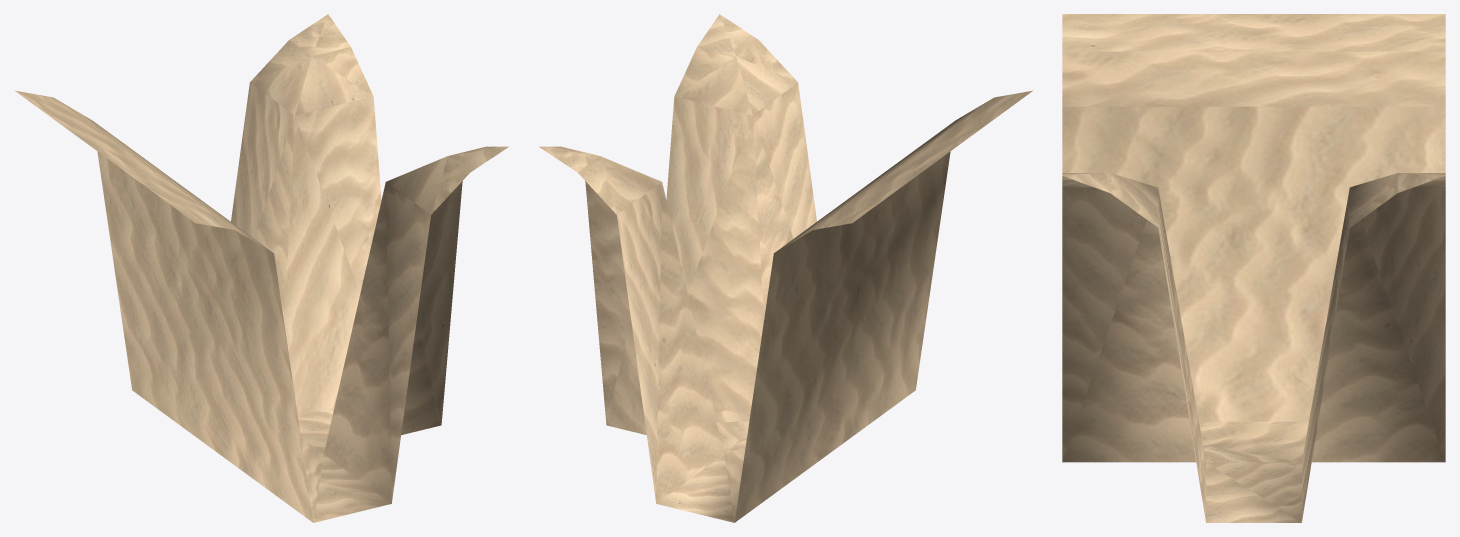
Rendered from Sand3a.obj.
3 renders of one model, left to right at view 1: azimuth 30°, elevation 25°; view 2: azimuth 150°, elevation 25°; view 3: azimuth 270°, elevation 25°, orthographic. The views are drawn at different scales.
Parts seen in each view (by area): view 1: Grid_Grid.017_Grid_Grid.010; view 2: Grid_Grid.017_Grid_Grid.010; view 3: Grid_Grid.017_Grid_Grid.010.
Part boxes in pixels (x1=…): Grid_Grid.017_Grid_Grid.010: x1=15, y1=14, x2=508, y2=522; Grid_Grid.017_Grid_Grid.010: x1=539, y1=14, x2=1032, y2=522; Grid_Grid.017_Grid_Grid.010: x1=1062, y1=14, x2=1445, y2=522.
Size of the model in its own units: 1 by 1 by 1.
